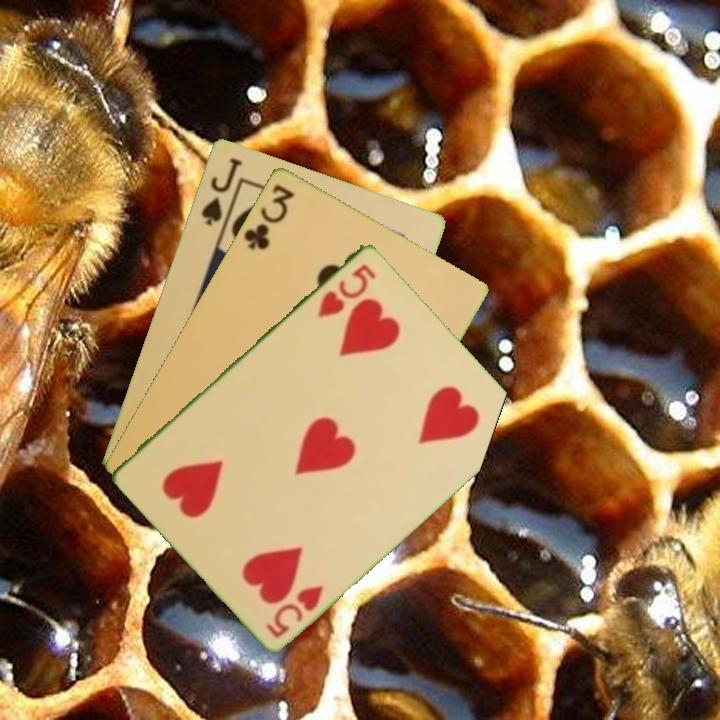3c: (239, 180, 297, 253)
5h: (313, 259, 379, 320), (262, 581, 327, 641)
Js: (197, 153, 245, 228)
